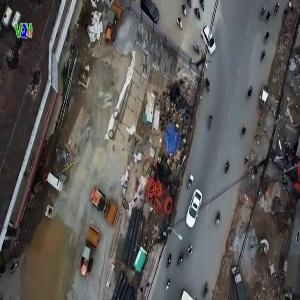drone: (175, 37, 225, 87)
